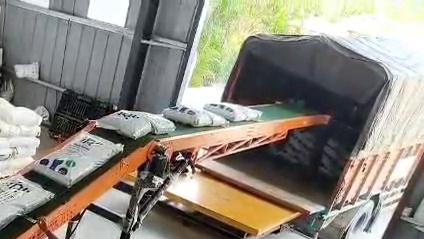box: (33, 133, 122, 187), (0, 176, 53, 231), (97, 110, 175, 138), (204, 103, 261, 121), (163, 105, 211, 124)
